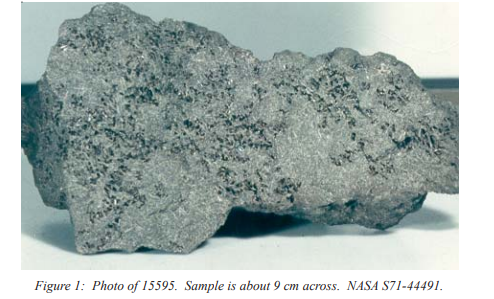Basalt: (47, 13, 458, 230), (97, 61, 391, 180)
